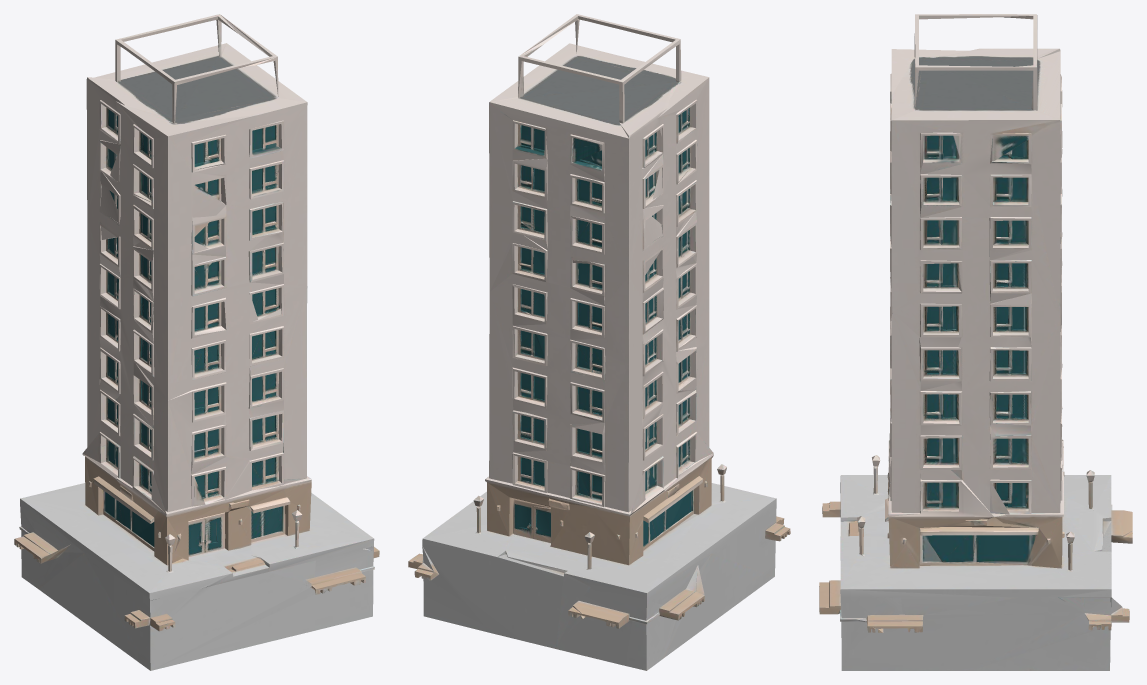
Rendered from building-stepped.glb.
3 views of the same model, side by side, from view 1: azimuth 30°, elevation 25°; view 2: azimuth 150°, elevation 25°; view 3: azimuth 270°, elevation 25° (orthographic). The views are drawn at different scales.
Bounding box in the file's own units: 0.9504 × 1.9 × 0.9427.
1 material, 1 textured.
